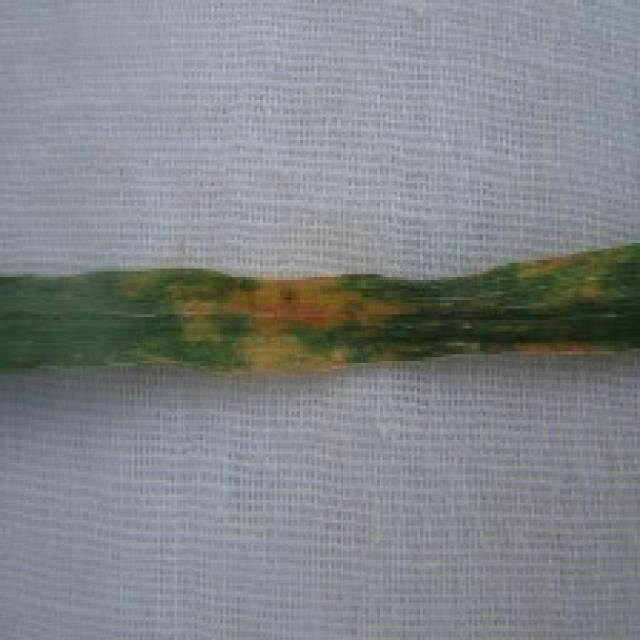Bacterial_Blight: (113, 253, 408, 334), (124, 336, 388, 402), (477, 230, 629, 301), (487, 335, 612, 373)
